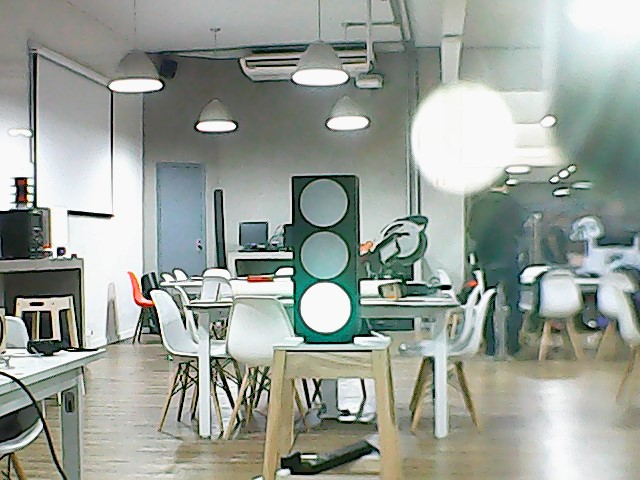verde: (290, 167, 363, 346)
